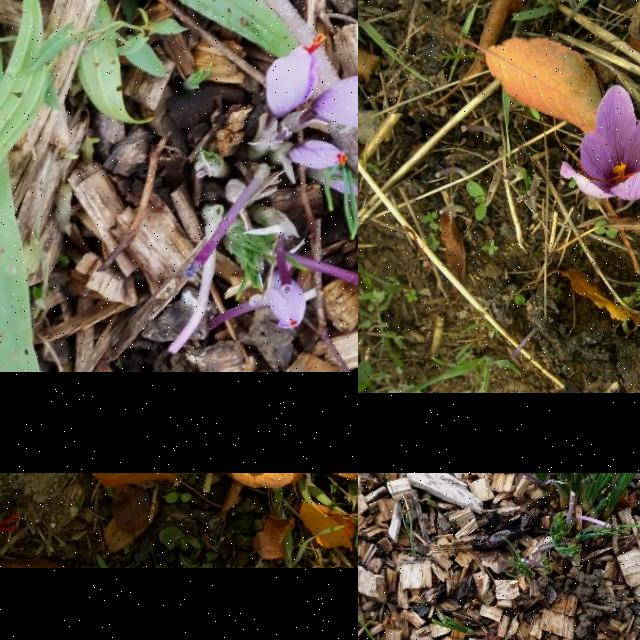flower: (560, 85, 640, 208), (266, 34, 328, 116), (311, 68, 358, 128), (266, 272, 306, 330), (289, 140, 349, 168), (312, 169, 358, 201)
